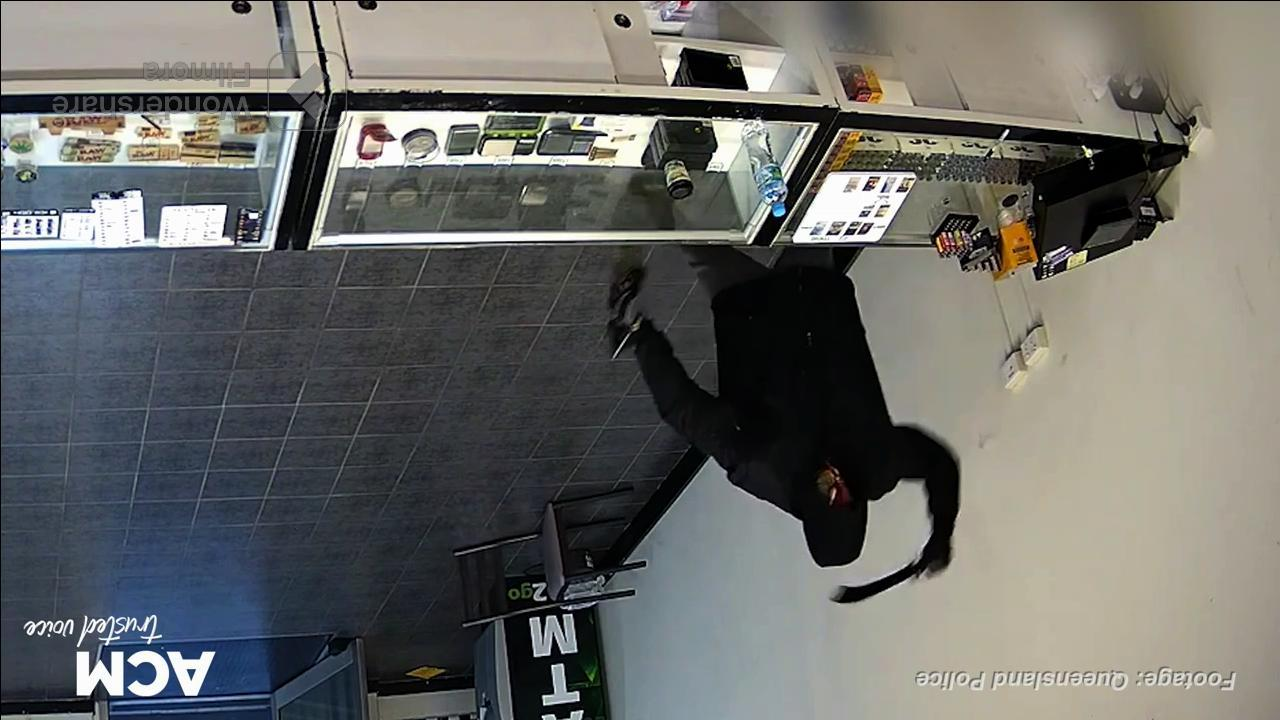melee: (826, 557, 930, 605)
